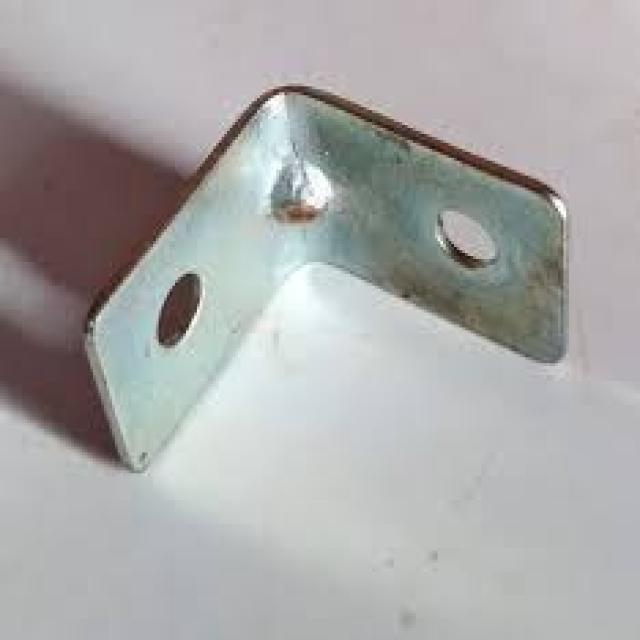holes: (435, 205, 498, 268), (153, 271, 202, 345)
